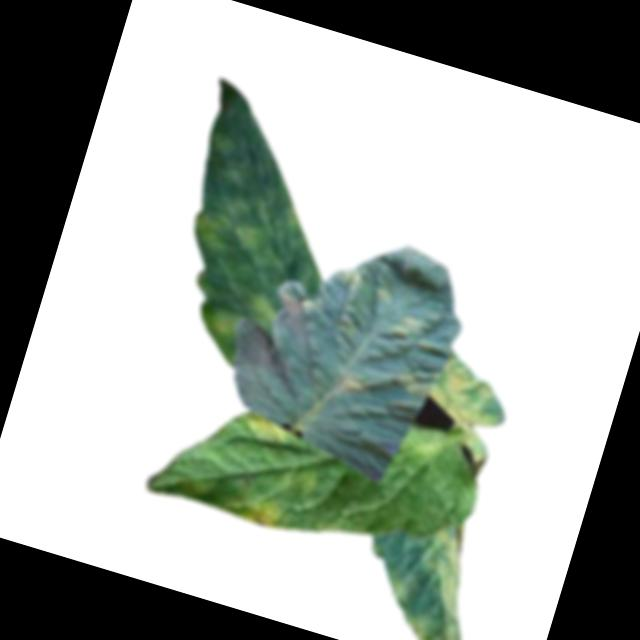Leaf_Mold: (368, 508, 504, 640), (412, 347, 518, 467), (187, 172, 308, 274), (235, 488, 289, 530), (241, 408, 294, 450), (328, 259, 373, 301), (244, 291, 284, 334), (395, 362, 440, 400), (389, 309, 430, 347), (333, 370, 373, 401), (209, 303, 242, 338), (372, 281, 400, 310)
